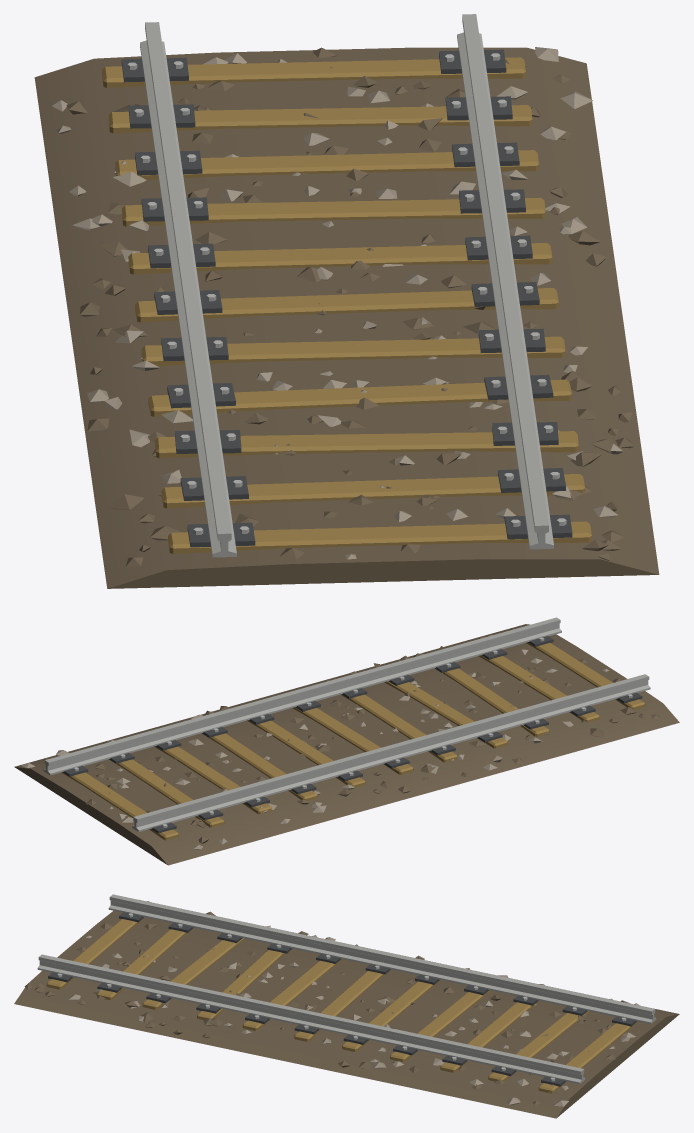
File: half-diagonal-rail-ne.glb
3 renders of one model, top to bottom at view 1: azimuth 30°, elevation 25°; view 2: azimuth 150°, elevation 25°; view 3: azimuth 270°, elevation 25°, orthographic. The views are drawn at different scales.
Parts seen in each view (by area): view 1: body; view 2: body; view 3: body.
Part boxes in pixels (x1=…): body: x1=34, y1=14, x2=659, y2=588; body: x1=14, y1=617, x2=679, y2=865; body: x1=14, y1=894, x2=679, y2=1118.
Size of the model in its own units: 3.82 by 0.2151 by 4.91.
